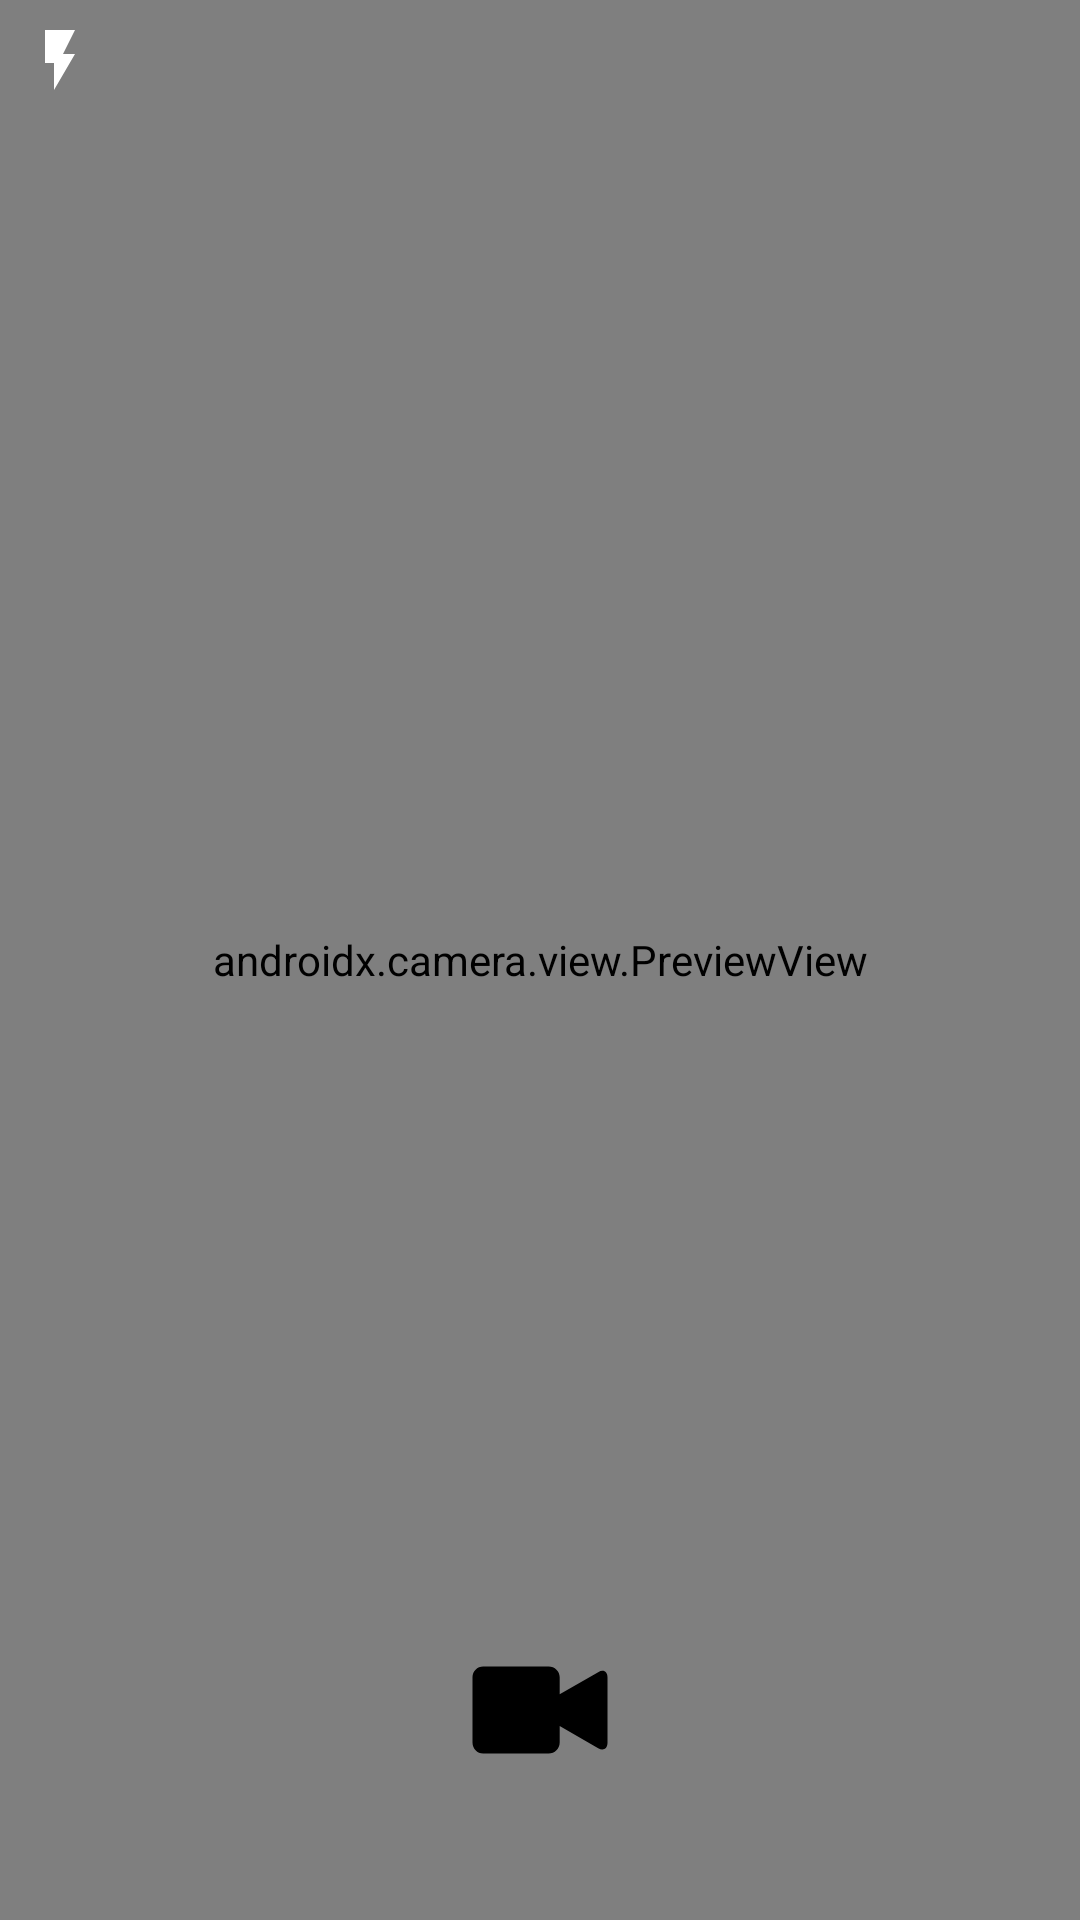

Screen size 1080 × 1920. Icon name, then its box in pixels as box=[x1, y1, x2, y2]:
flash on: box=[45, 30, 75, 90]
take video: box=[472, 1666, 608, 1754]
